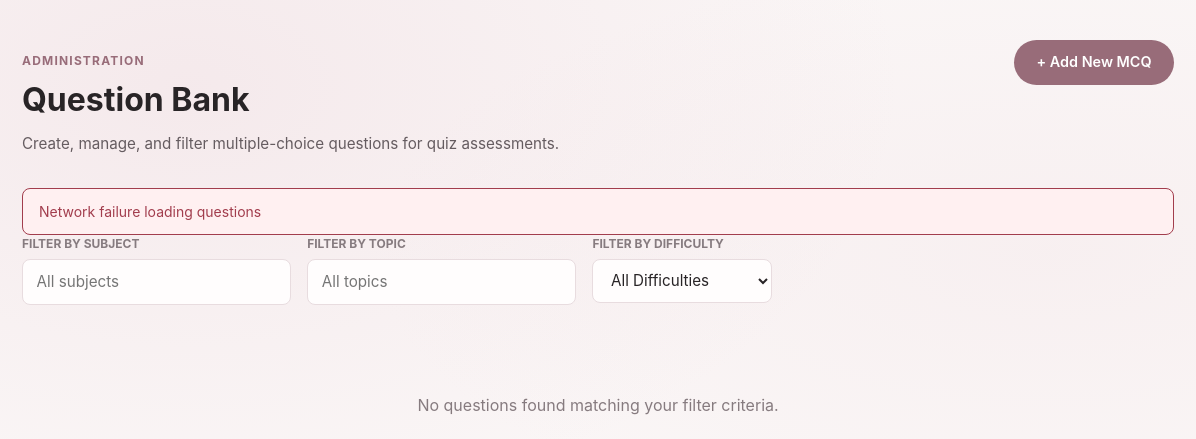
Test: QuestionBankPage (CSMQ-23 / CSMQ-24) › clears listing error banner when subsequent filter request succeeds
The width and height of the screenshot is (1196, 439).
Expected: the text "Network failure loading questions" is shown, [22, 188, 1174, 236]
Select "Easy" in the dropdown labelled "Filter by Difficulty": (682, 281) [592, 259, 772, 303]
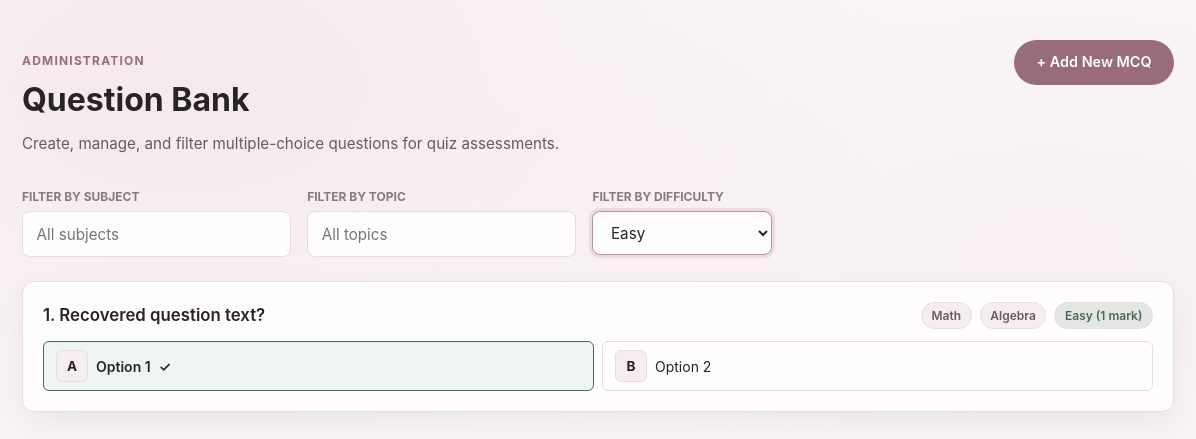
Expected: the heading "1. Recovered question text?" is shown, [43, 302, 265, 328]
Expected: the text "Network failure loading questions" is gone
